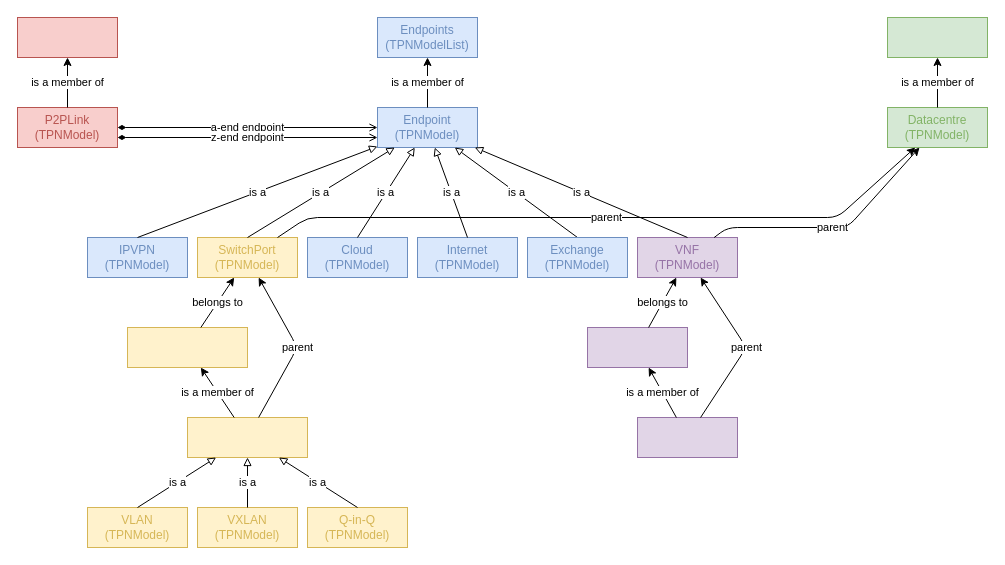
This 1005x565 diagram has some shape labels left out. The shapes that lost their labels are listed below. From the top down, each one's centre as x and y in pixels, then its label:
the point at 67,37: P2PLinks (TPNModelList)
the point at 937,37: Datacentres (TPNModelList)
the point at 187,347: VPortEncapsulations (TPNModelList)
the point at 637,347: VNFInterfaces (TPNModelList)
the point at 247,437: VPortEncapsulation (TPNModel)
the point at 687,437: VNFInterface (TPNModel)
